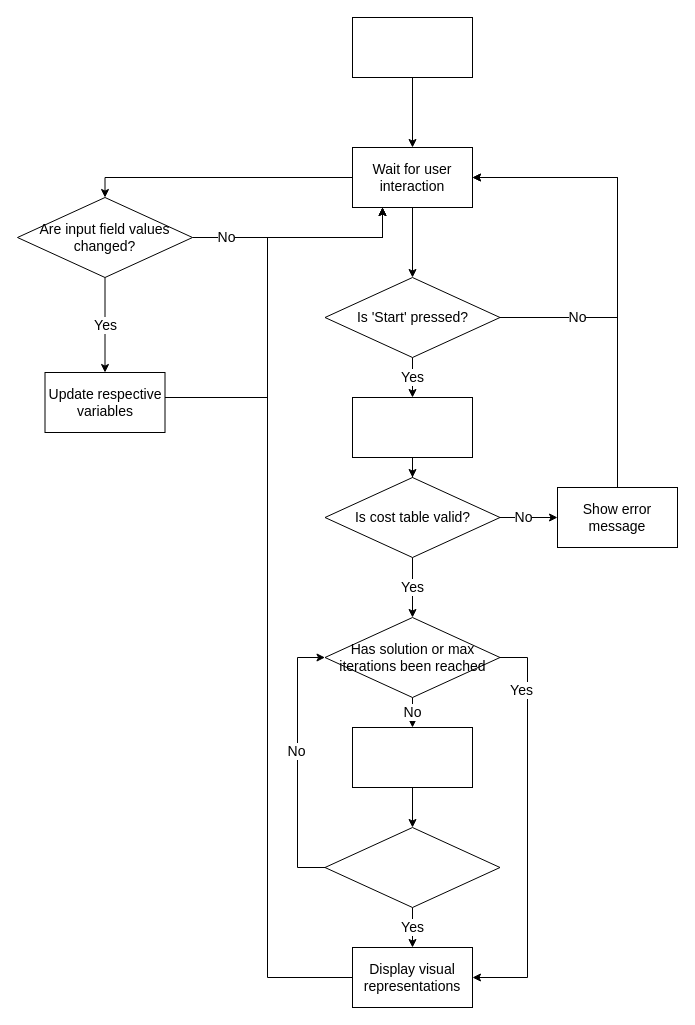
Some shapes in this 695 by 1025 pixel diagram are drawn without their labels. Each missing label, with the centre of its shape:
Generate epoch of solutions and update gauges: point 412,757
Initialize default variables: point 412,47
Is 'Stop' pressed?: point 412,867
Reset visual representations: point 412,427
